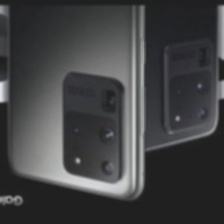phone: (2, 0, 147, 204), (96, 0, 221, 160)
